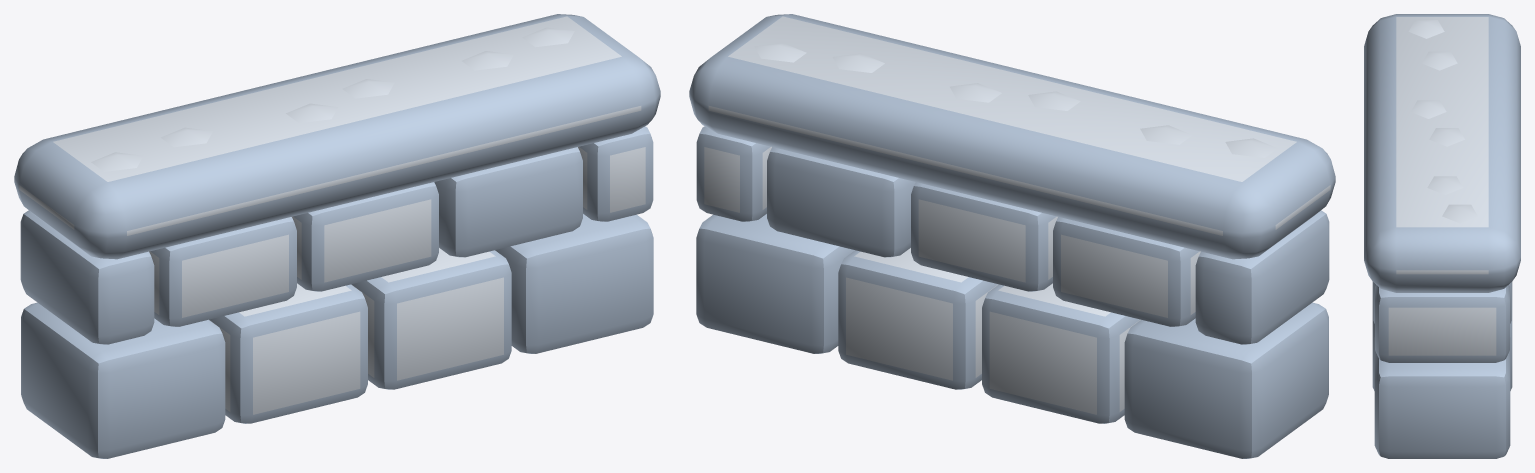
The model's file is snow_wall.glb.
3 renders of one model, left to right at view 1: azimuth 30°, elevation 25°; view 2: azimuth 150°, elevation 25°; view 3: azimuth 270°, elevation 25°, orthographic. The views are drawn at different scales.
Parts seen in each view (by area): view 1: snow_wall; view 2: snow_wall; view 3: snow_wall.
Boxes of the visible parts, x1=… form: snow_wall: x1=14, y1=14, x2=660, y2=458; snow_wall: x1=689, y1=14, x2=1335, y2=458; snow_wall: x1=1364, y1=14, x2=1520, y2=458.
Size of the model in its own units: 2.44 by 1.11 by 0.68.
